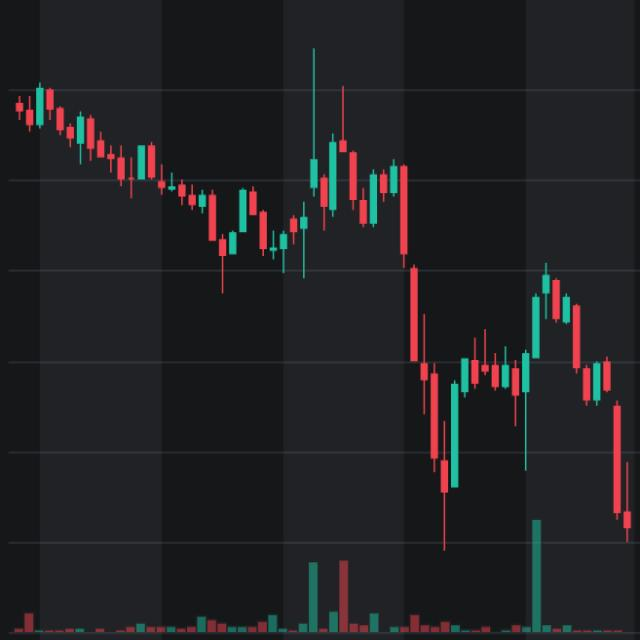Channel-down: (2, 38, 333, 324)
